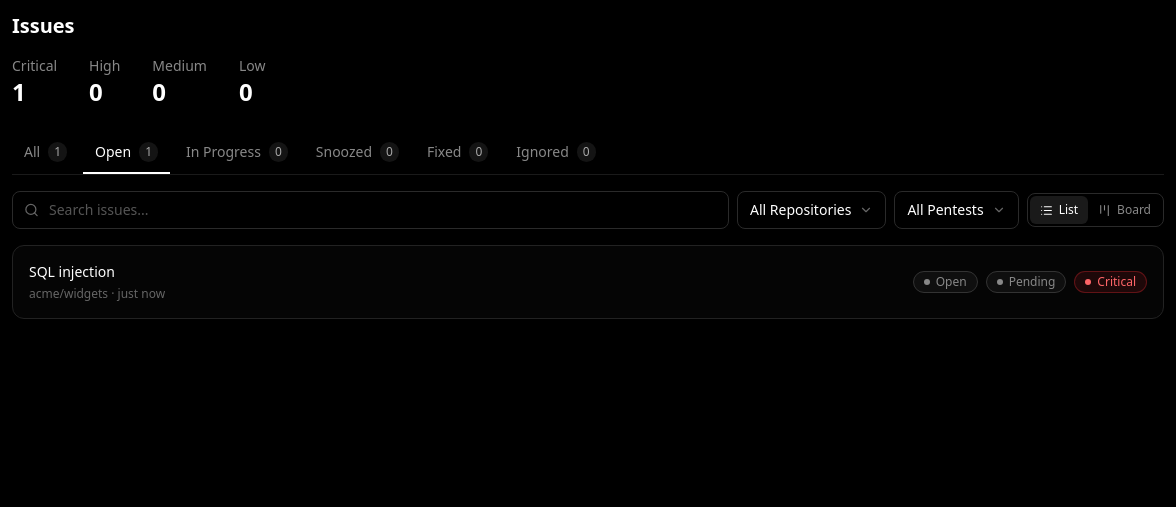
Scenario: IssuesList › filters issues client-side by search text
Expected: the text "SQL injection" is shown, x1=29 y1=262 x2=115 y2=281
Type "nonexistent" into the field with placeholder "Search issues...".
click(370, 210); type("nonexistent")  # box x1=12 y1=191 x2=729 y2=229
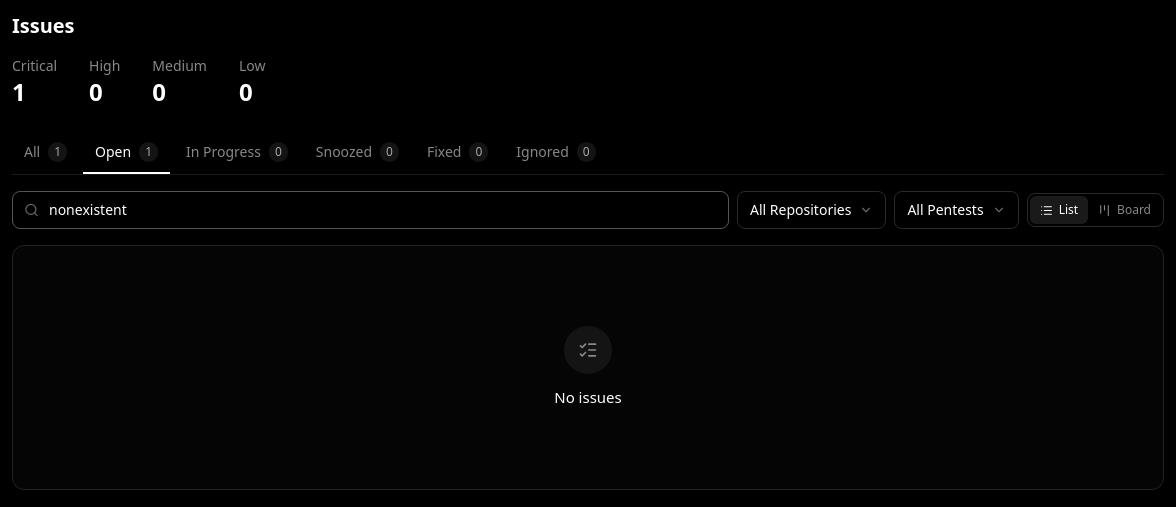
Result: the link "SQL injection" is gone
